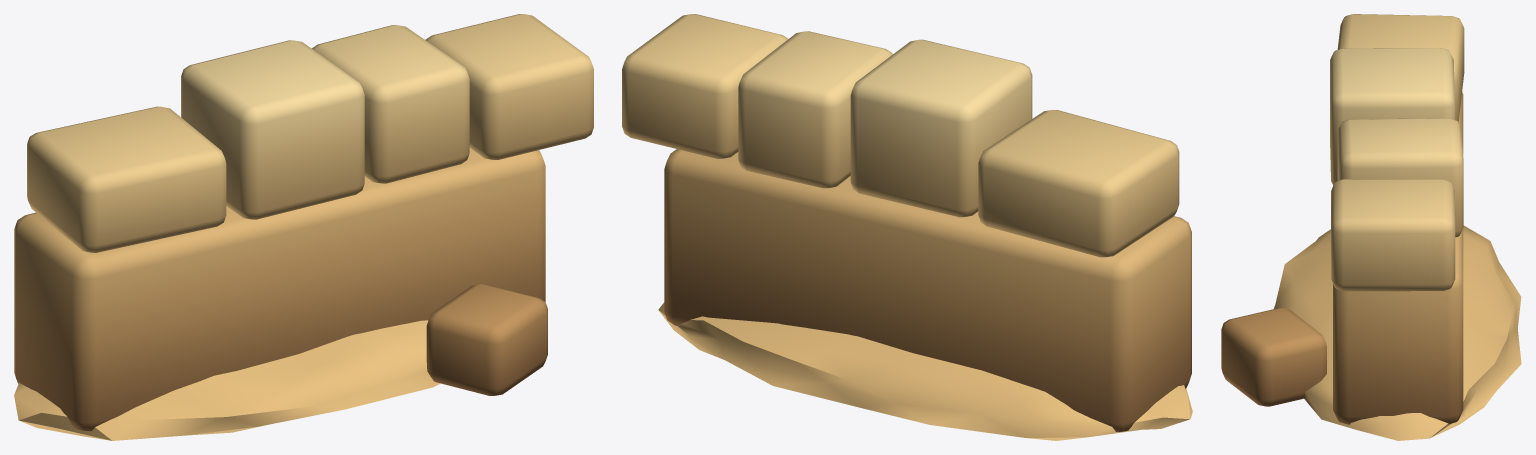
The model's file is RuinLow.fbx.
3 views of the same model, side by side, from view 1: azimuth 30°, elevation 25°; view 2: azimuth 150°, elevation 25°; view 3: azimuth 270°, elevation 25° (orthographic). The views are drawn at different scales.
Parts seen in each view (by area): view 1: RuinLow; view 2: RuinLow; view 3: RuinLow.
Boxes of the visible parts, x1,y1,x2,y2 form: RuinLow: [14, 14, 593, 440]; RuinLow: [622, 14, 1192, 440]; RuinLow: [1221, 14, 1521, 440].
Bounding box in the file's own units: 1.79 × 0.9065 × 0.9685.
Materials: 1 (1 with a texture image).
